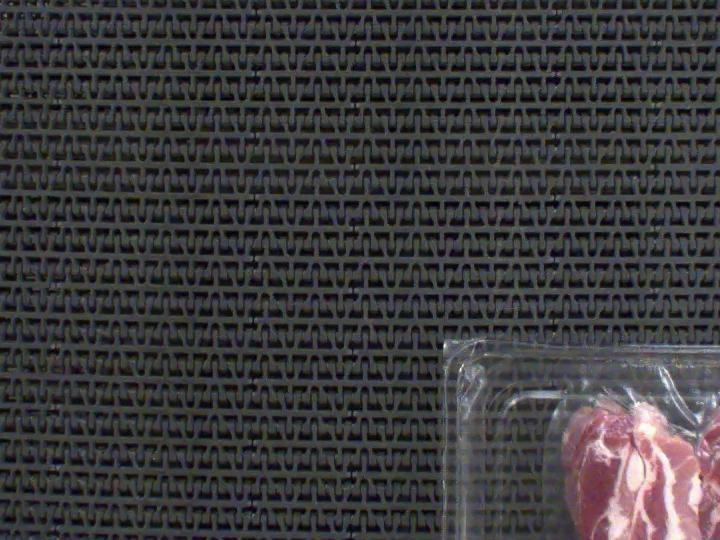unsealed: (515, 350, 720, 540)
